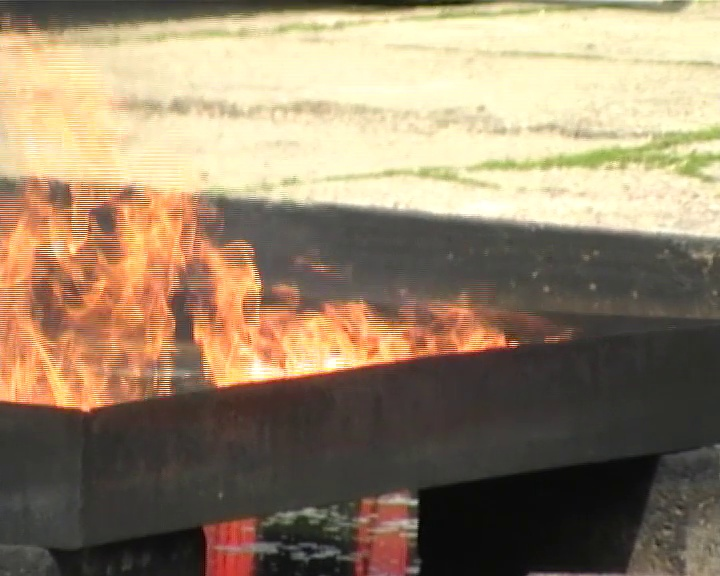fire: (1, 179, 503, 408)
